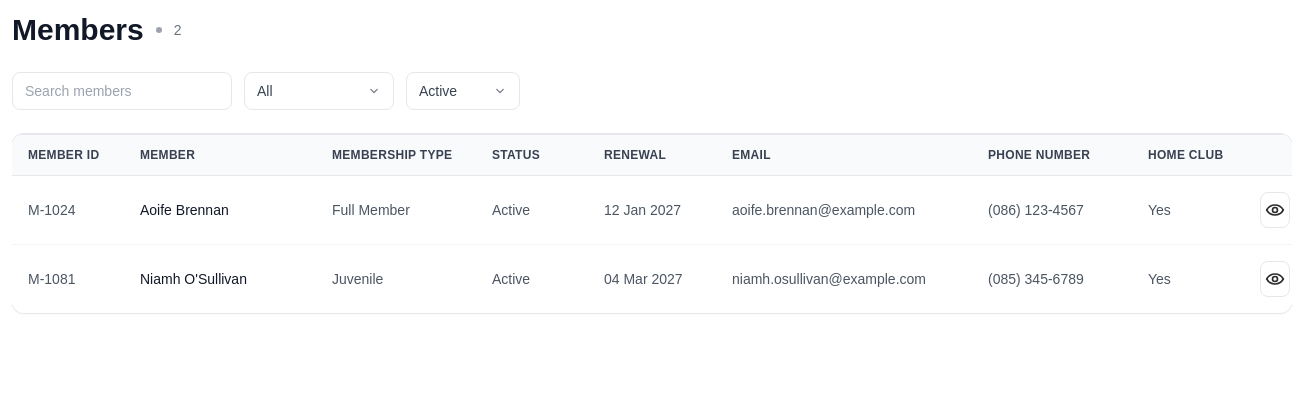
Test case: MembersPage › rendering › should narrow rows when searching by member ID substring
Select "All" in the dropdown named "filter by status" at (463, 91), box [406,72,520,110]
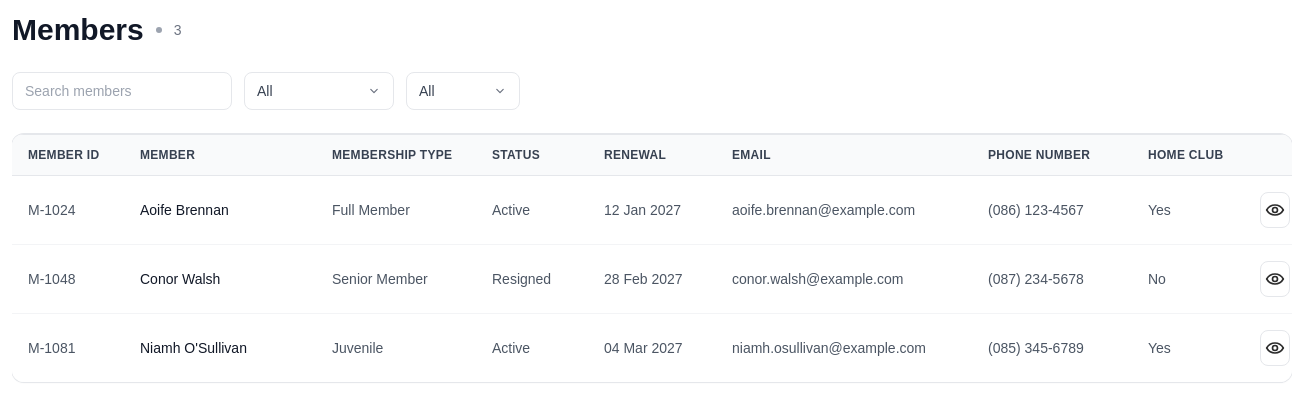
Type "048" into the search field labelled "Search members".
click(122, 91); type("048")  # box [12,72,232,110]
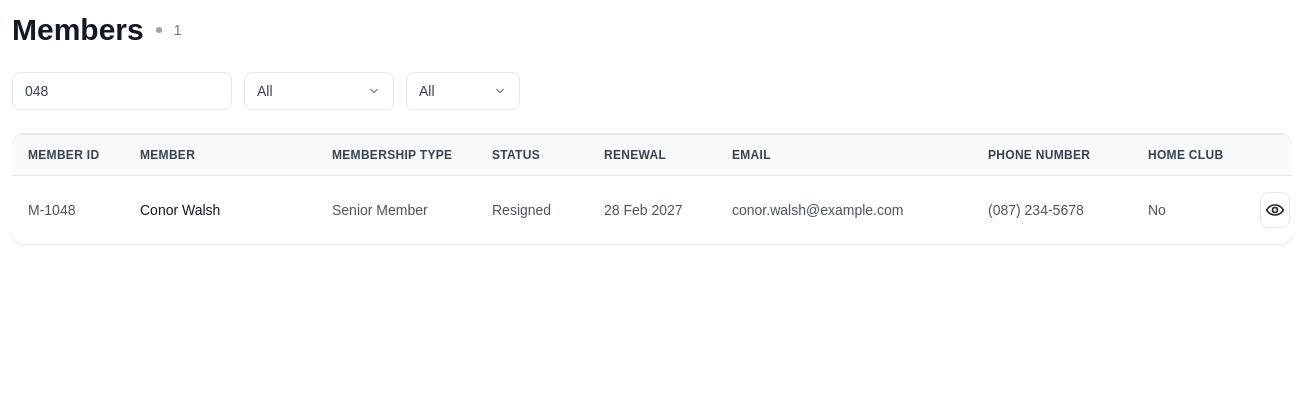
Expected: the text "Conor Walsh" is shown, [124,176,316,244]
Expected: the text "Aoife Brennan" is gone
Expected: the text "Niamh O'Sullivan" is gone
